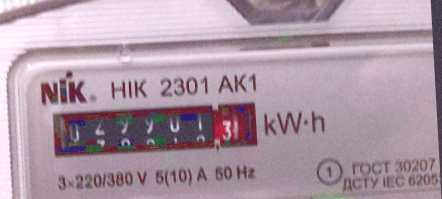0: (166, 109, 182, 135), (65, 120, 81, 143)
1: (193, 108, 206, 132)
2: (91, 114, 107, 137)
3: (218, 118, 234, 142)
9: (142, 112, 155, 136), (117, 113, 130, 134)
screen: (43, 93, 267, 167)
